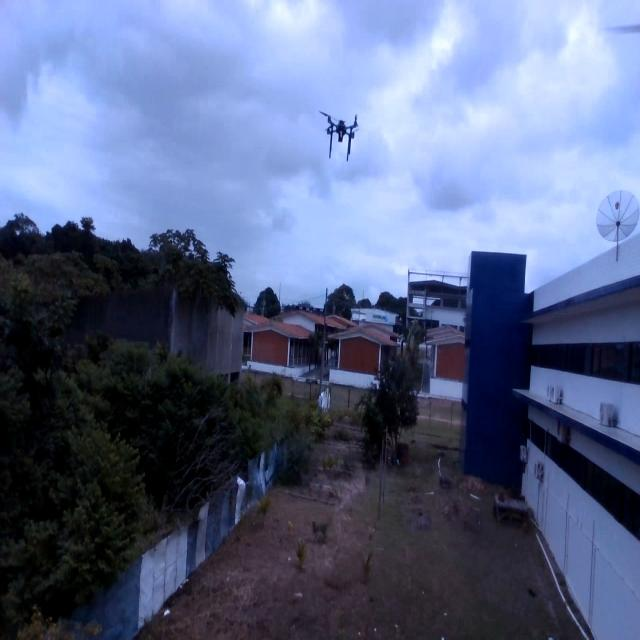-uav-: (317, 92, 371, 184)
